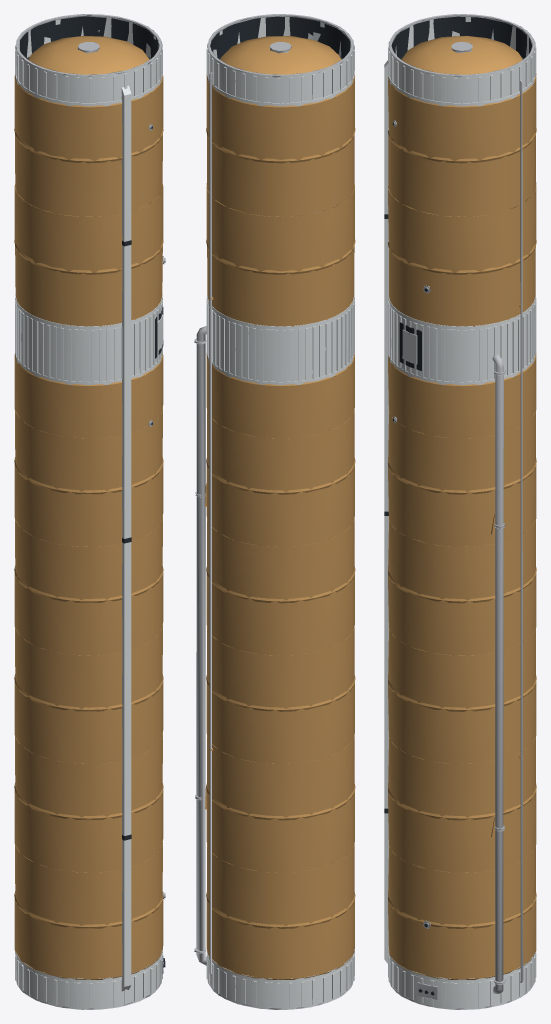
The model's file is tank_s1_xl_hydrolox.glb.
3 views of the same model, side by side, from view 1: azimuth 30°, elevation 25°; view 2: azimuth 150°, elevation 25°; view 3: azimuth 270°, elevation 25° (orthographic).
Parts seen in each view (by area): view 1: tank_s1_xl_hydrolox_mesh; view 2: tank_s1_xl_hydrolox_mesh; view 3: tank_s1_xl_hydrolox_mesh.
Part boxes in pixels (x1,y1,x2,y2): tank_s1_xl_hydrolox_mesh: [14, 14, 165, 1009]; tank_s1_xl_hydrolox_mesh: [194, 14, 355, 1009]; tank_s1_xl_hydrolox_mesh: [384, 14, 536, 1009].
Size of the model in its own units: 8.72 by 59.2 by 8.77.
